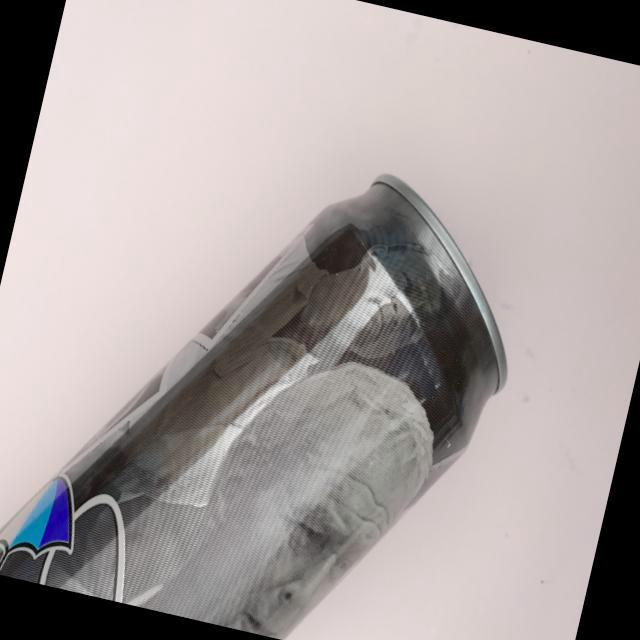metal: (0, 87, 555, 640)
